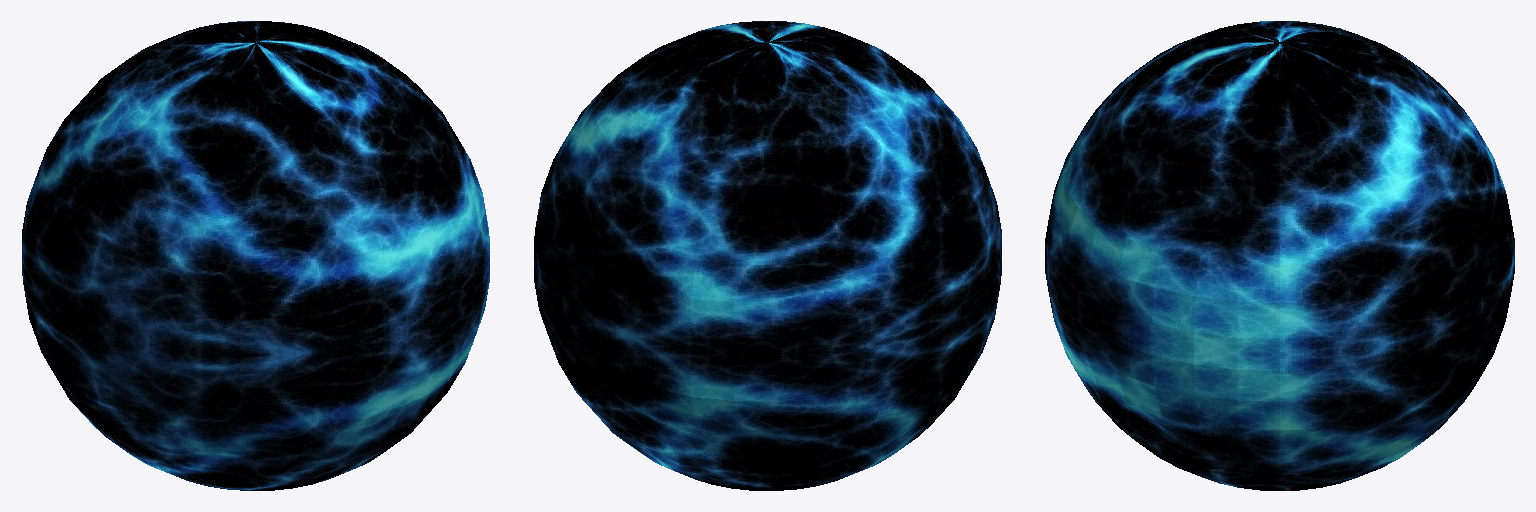
The picture shows the model from 3 angles: view 1: azimuth 30°, elevation 25°; view 2: azimuth 150°, elevation 25°; view 3: azimuth 270°, elevation 25°; orthographic projection.
Visible parts, largest first — view 1: SurfSphere; view 2: SurfSphere; view 3: SurfSphere.
Part boxes in pixels (left/top/right/bottom): SurfSphere: left=22, top=21, right=489, bottom=490; SurfSphere: left=534, top=21, right=1001, bottom=490; SurfSphere: left=1045, top=21, right=1514, bottom=490.
Size of the model in its own units: 1.99 by 2 by 1.99.
1 materials, 1 textured.